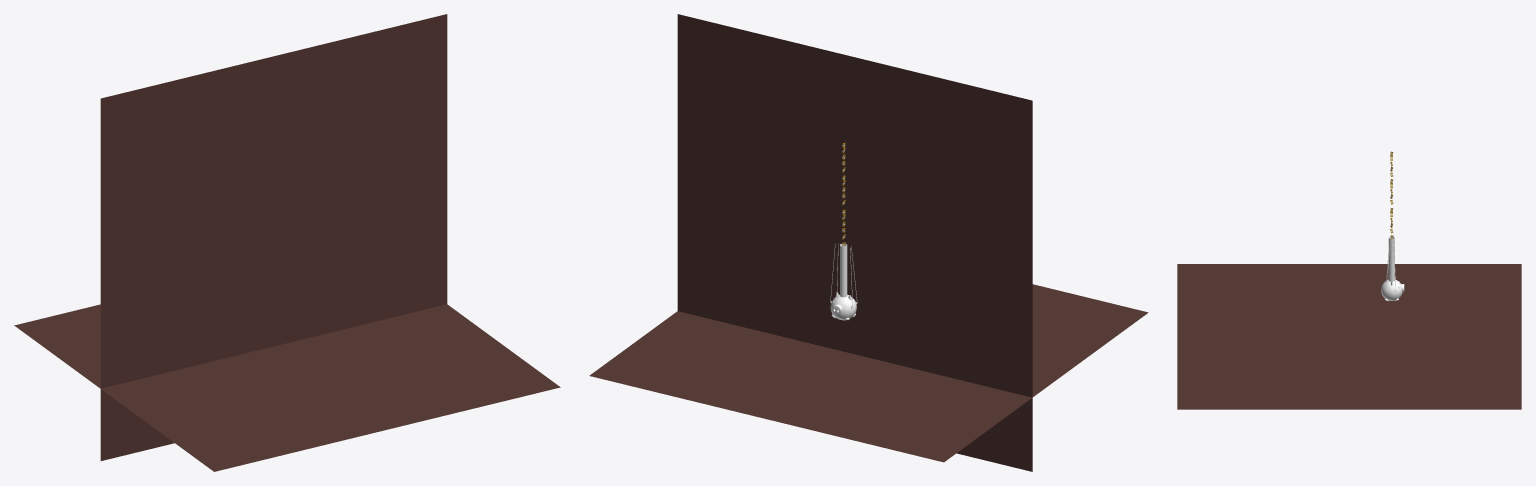
Rendered from Success Object.fbx.
The picture shows the model from 3 angles, left to right: view 1: azimuth 30°, elevation 25°; view 2: azimuth 150°, elevation 25°; view 3: azimuth 270°, elevation 25°; orthographic projection. The views are drawn at different scales.
Visible parts, largest first — view 1: Ground (1), Ground; view 2: Ground (1), Ground, pig_BODY; view 3: Ground, pig_BODY.
Boxes of the visible parts, bbox=[...] form: Ground (1): bbox=[100, 14, 447, 460]; Ground: bbox=[14, 304, 560, 471]; Ground (1): bbox=[677, 14, 1032, 471]; Ground: bbox=[589, 284, 1148, 462]; pig_BODY: bbox=[830, 243, 857, 320]; Ground: bbox=[1177, 264, 1521, 409]; pig_BODY: bbox=[1381, 235, 1404, 301].
Size of the model in its own units: 50 by 50 by 50.
